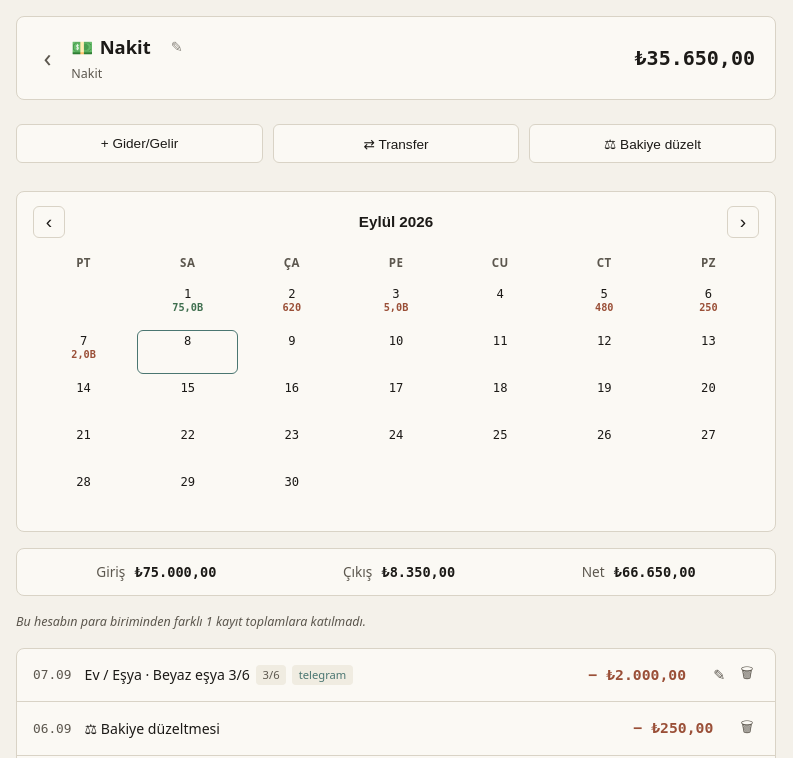
Hesap detayı › transfer düğmesi transfer formunu kaynak hesapla açar
The width and height of the screenshot is (793, 758).
Click the button "⇄ Transfer" at (396, 144), box [272,124,519,163]
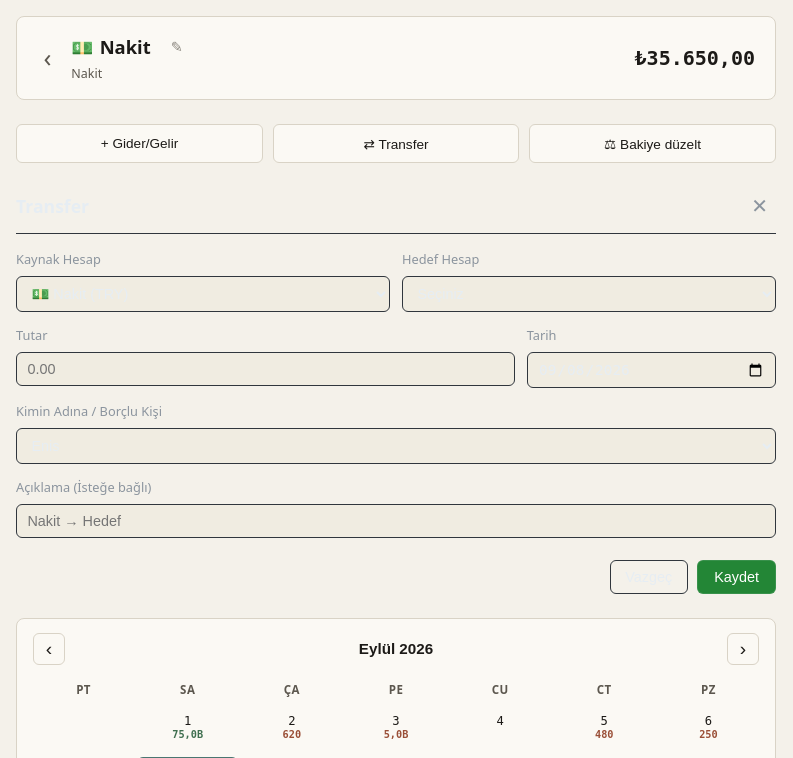
Expected: the dropdown with id "t-kaynak" shows "💵 Nakit (TRY)", [16,276,390,312]
